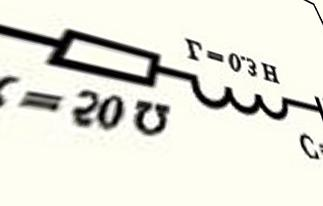inductor: (174, 56, 294, 128)
